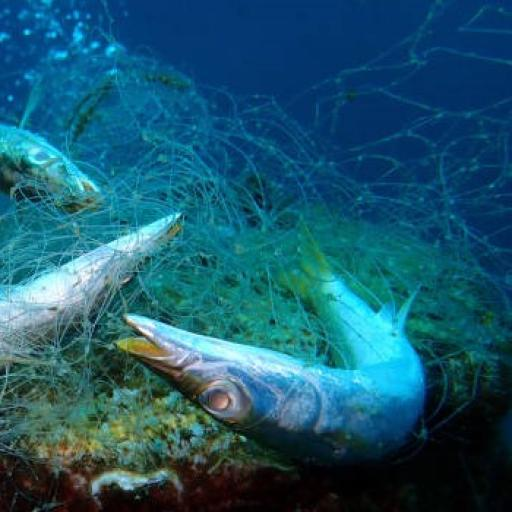net: (1, 2, 512, 470)
